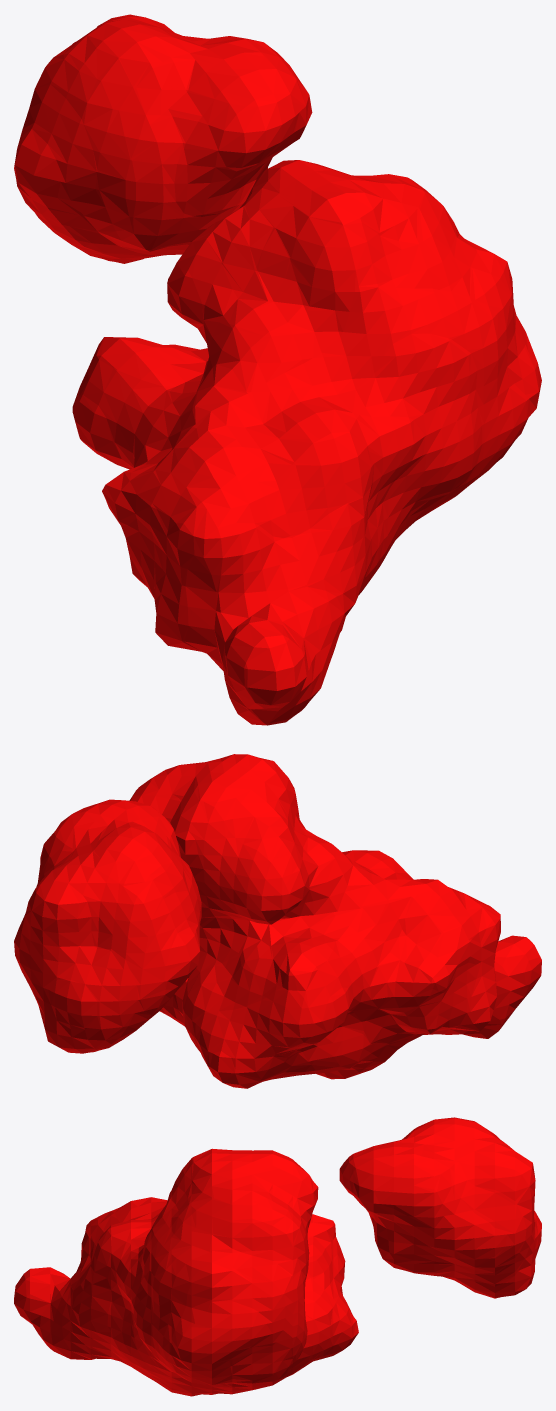
The model's file is rluD_coarse.dae.
3 views of the same model, one above another, from view 1: azimuth 30°, elevation 25°; view 2: azimuth 150°, elevation 25°; view 3: azimuth 270°, elevation 25° (orthographic). The views are drawn at different scales.
Visible parts, largest first — view 1: rluD; view 2: rluD; view 3: rluD.
Boxes of the visible parts, bbox=[...] form: rluD: bbox=[14, 14, 541, 725]; rluD: bbox=[14, 754, 541, 1088]; rluD: bbox=[14, 1117, 541, 1396].
Size of the model in its own units: 57.27 by 56.06 by 92.42.
